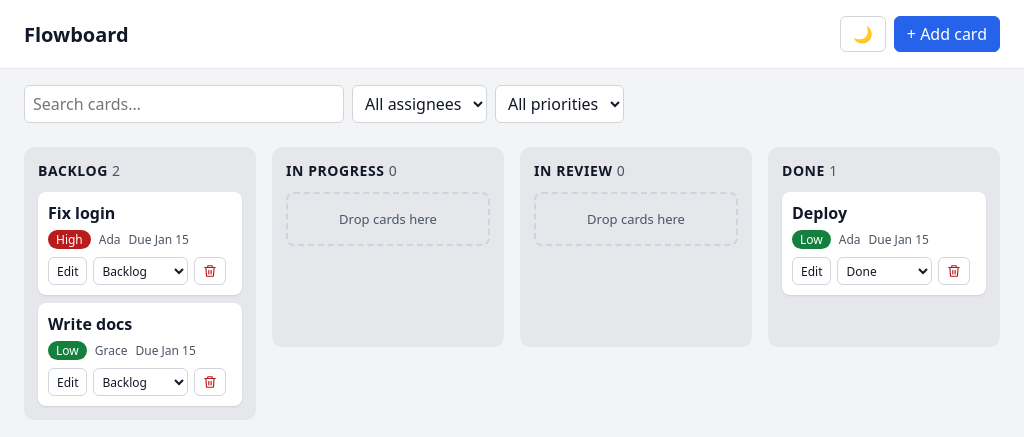
Test: search and filters › column counts reflect the filter and the result count is announced
The image size is (1024, 437).
Expected: the element "Backlog" is shown, [24,147,256,420]
Type "docs" into the search field labelled "Search cards". click: (184, 104)
box: [24,85,344,123]
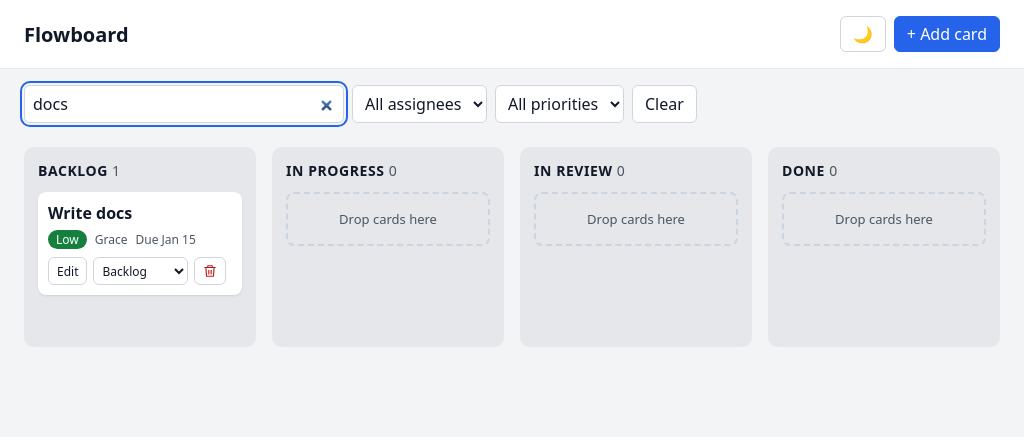
Result: the heading "Backlog 1" is shown at [38,161,121,180]
Result: the heading "Done 0" is shown at [782,161,838,180]
